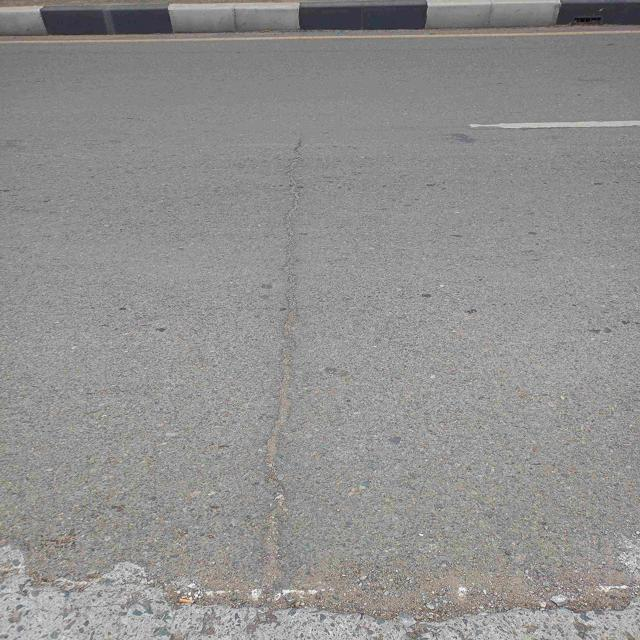Memanjang: (235, 95, 327, 615)
